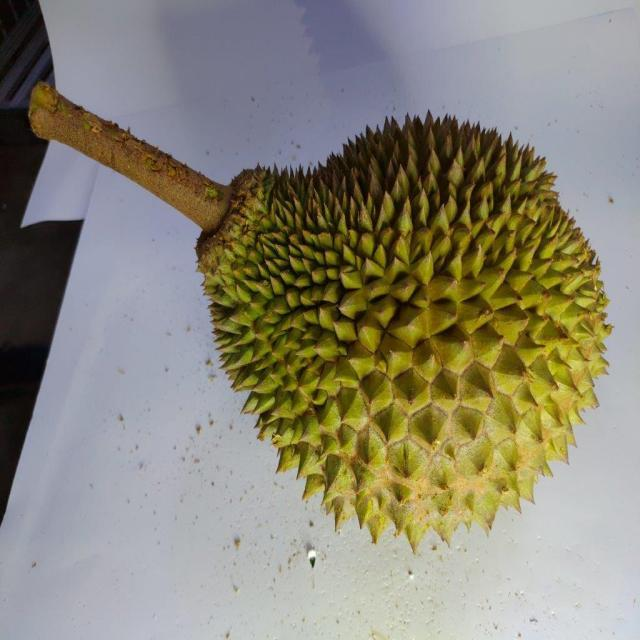immature: (202, 111, 612, 548)
